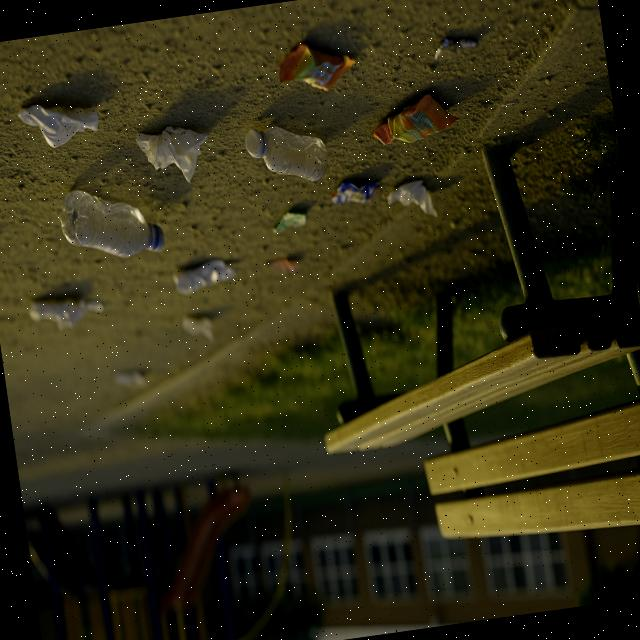paper: (17, 90, 103, 152), (136, 120, 214, 188), (386, 172, 438, 222)
plastic: (55, 175, 168, 268), (238, 118, 334, 186)
